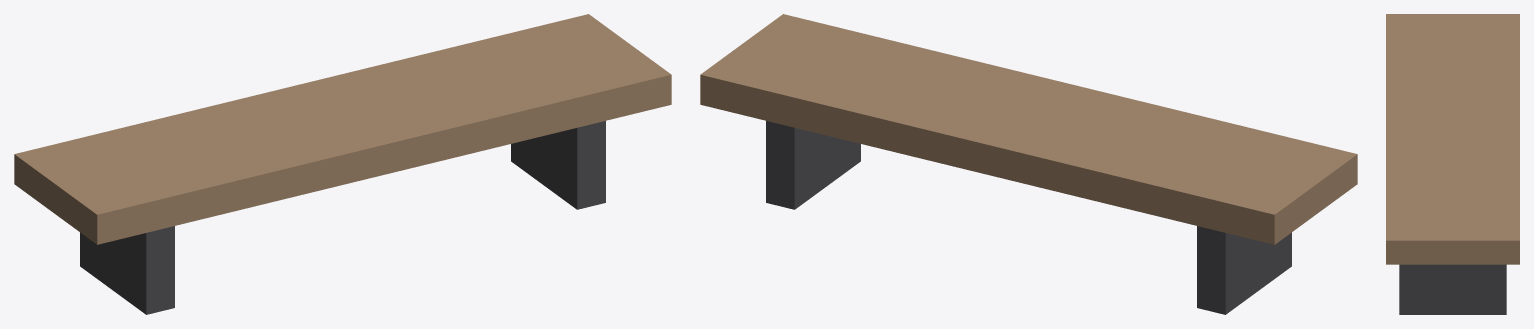
Rendered from ilu_prateleira_luz.glb.
3 views of the same model, side by side, from view 1: azimuth 30°, elevation 25°; view 2: azimuth 150°, elevation 25°; view 3: azimuth 270°, elevation 25° (orthographic). The views are drawn at different scales.
Parts seen in each view (by area): view 1: ILU_Prateleira_Luz_v01; view 2: ILU_Prateleira_Luz_v01; view 3: ILU_Prateleira_Luz_v01.
Boxes of the visible parts, left/top/right/bottom form: ILU_Prateleira_Luz_v01: left=14, top=14, right=671, bottom=314; ILU_Prateleira_Luz_v01: left=700, top=14, right=1357, bottom=314; ILU_Prateleira_Luz_v01: left=1386, top=14, right=1519, bottom=314.
Size of the model in its own units: 0.8 by 0.16 by 0.2.
